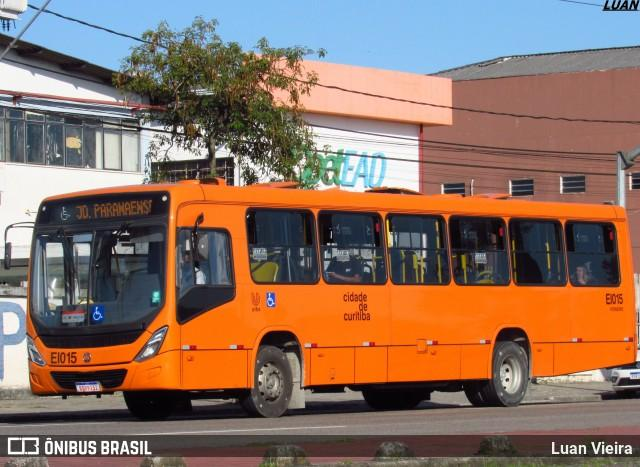JD PARANAENSE: (72, 197, 158, 224)
